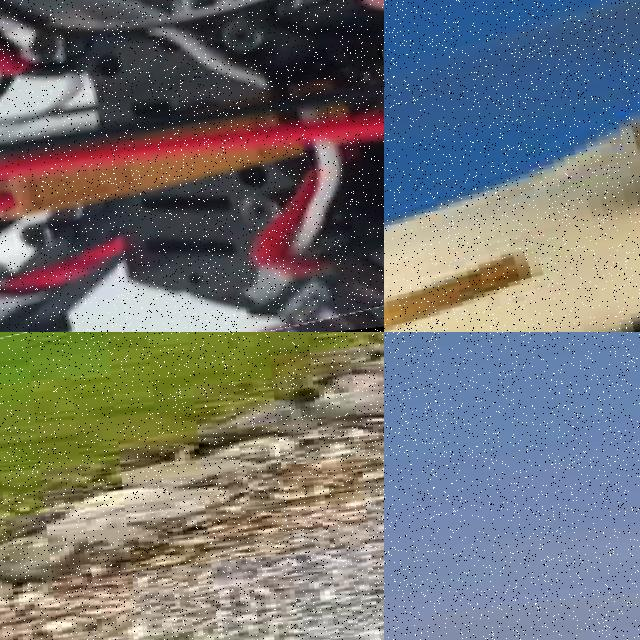drone: (0, 0, 384, 332), (384, 0, 640, 332)
